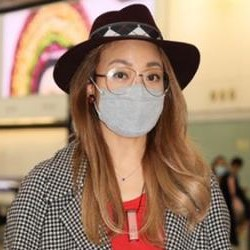mask: (85, 72, 167, 138)
